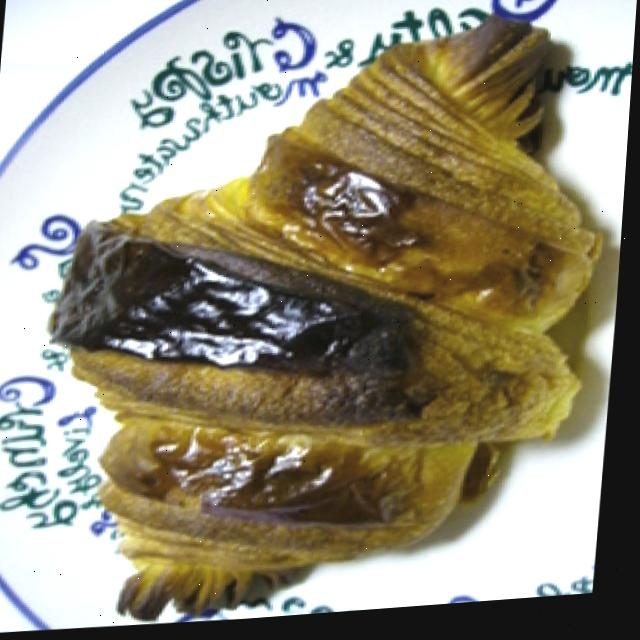面包点心: (21, 0, 639, 637)
